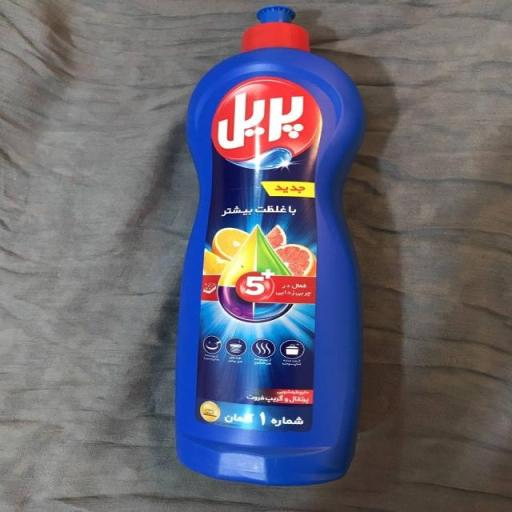plastic: (171, 4, 371, 486)
